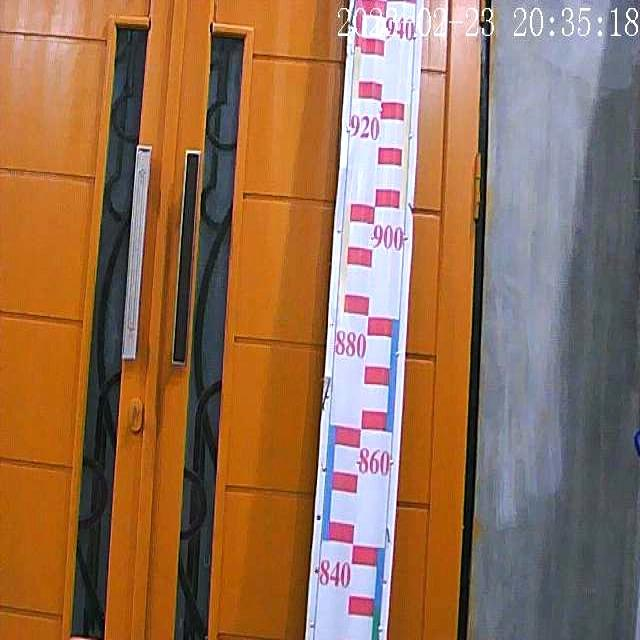ruler: (292, 0, 442, 640)
value: (330, 324, 368, 366), (355, 444, 394, 478), (370, 221, 408, 254), (383, 12, 417, 46), (346, 110, 381, 143)
